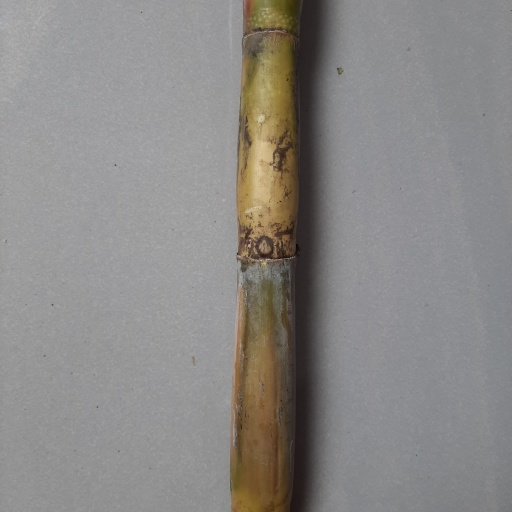Bud: (255, 234, 276, 261)
